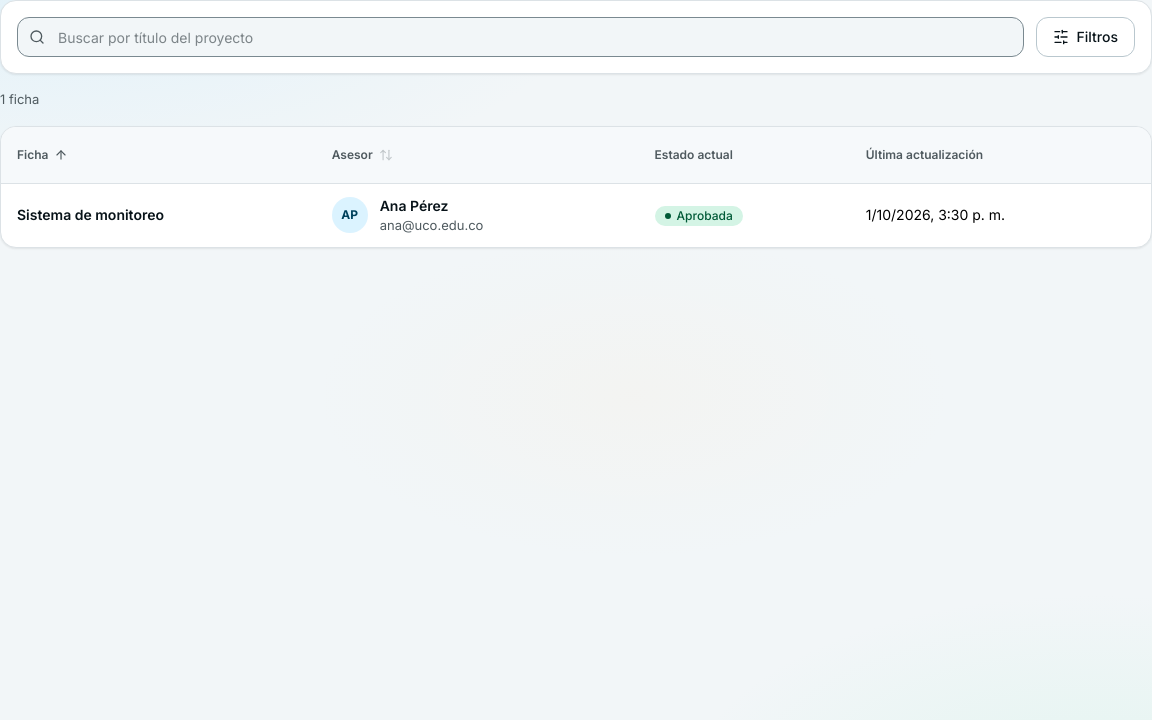
Test: ConsultarFichasRepresentante › si el catálogo de estados falla avisa en la sección y deja los demás filtros disponibles
This screenshot has width=1152, height=720.
Click the button "Filtros".
click(1085, 37)  # box [1036, 17, 1135, 57]
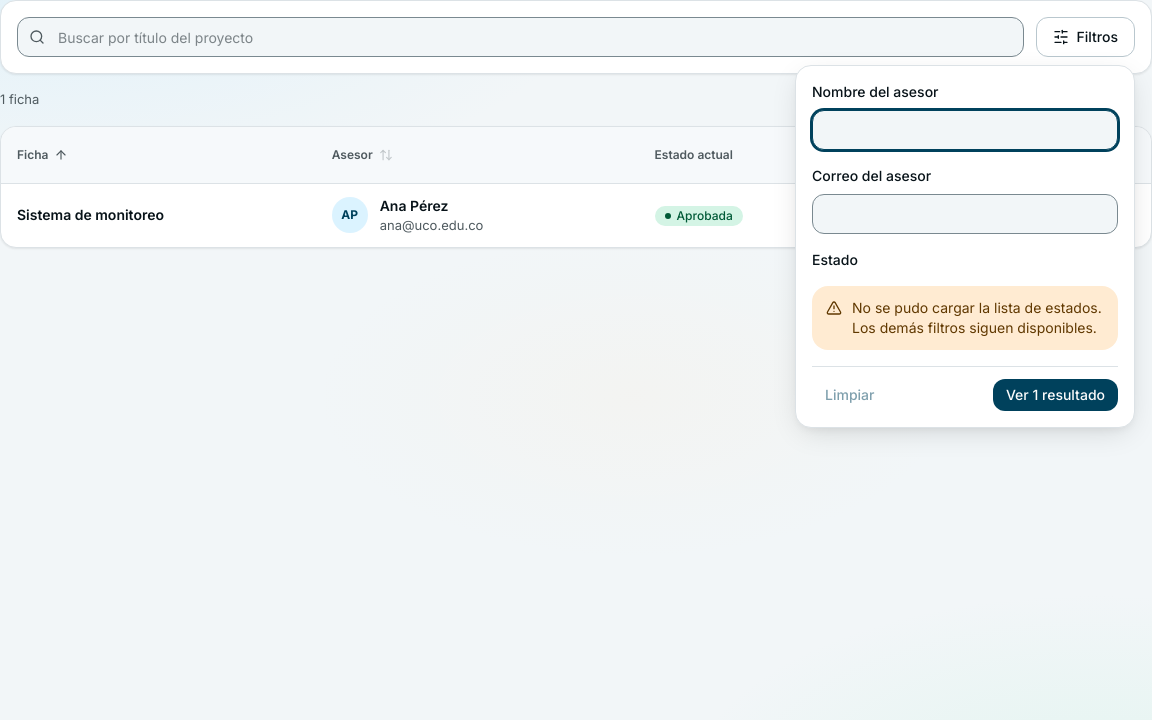
Expected: the text "No se pudo cargar la lista de estados" is shown, [852, 299, 1102, 336]
Expected: the field labelled "Nombre del asesor" is enabled, [812, 110, 1118, 150]
Expected: the field labelled "Correo del asesor" is enabled, [812, 194, 1118, 234]
